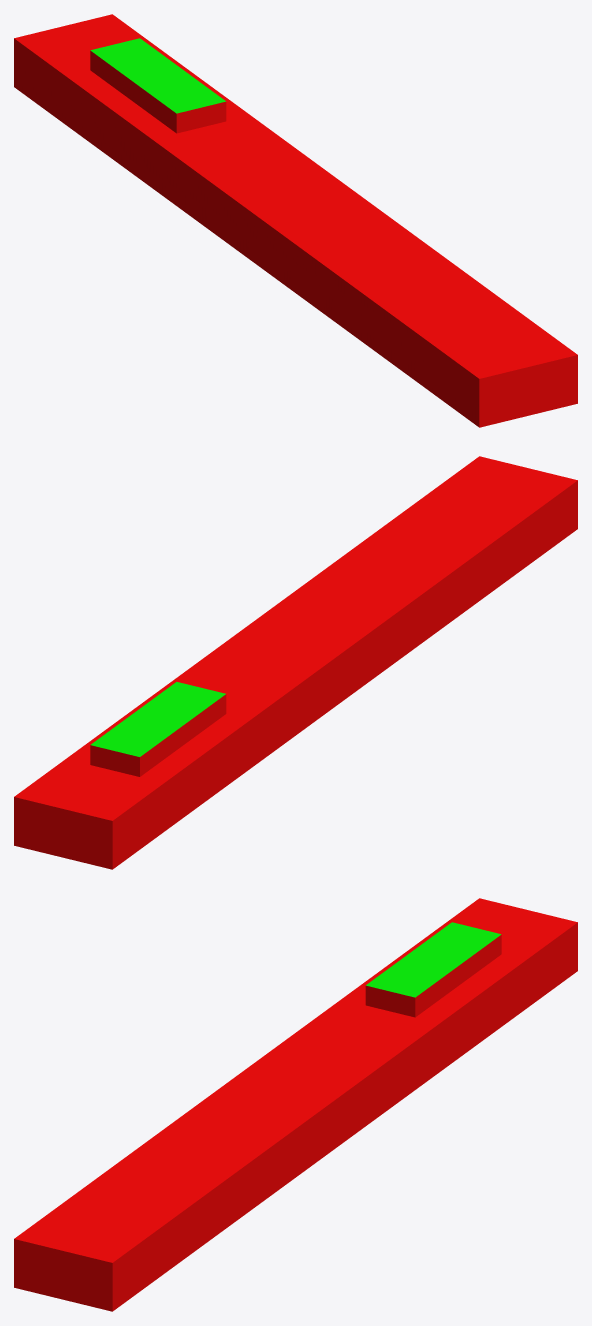
Rendered from labeled.obj.
The picture shows the model from 3 angles, top to bottom: view 1: azimuth 30°, elevation 25°; view 2: azimuth 150°, elevation 25°; view 3: azimuth 330°, elevation 25°; orthographic projection.
Bounding box in the file's own units: 0.0178 × 0.0119 × 0.1459.
